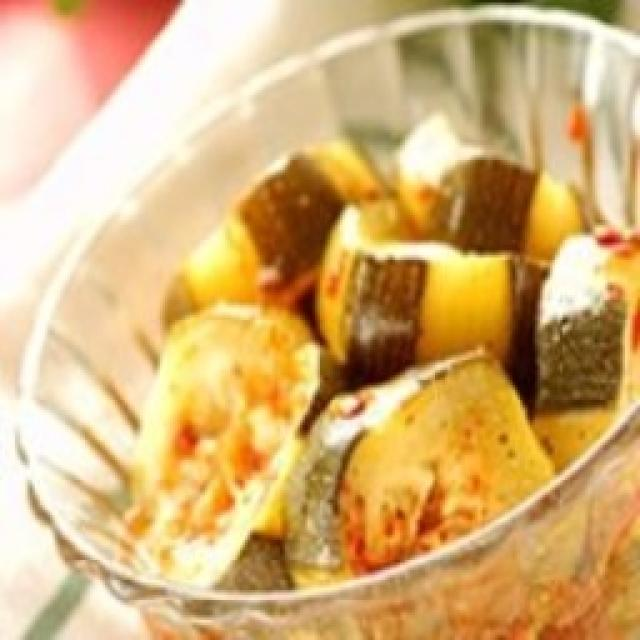Couscous: (129, 114, 628, 588)
